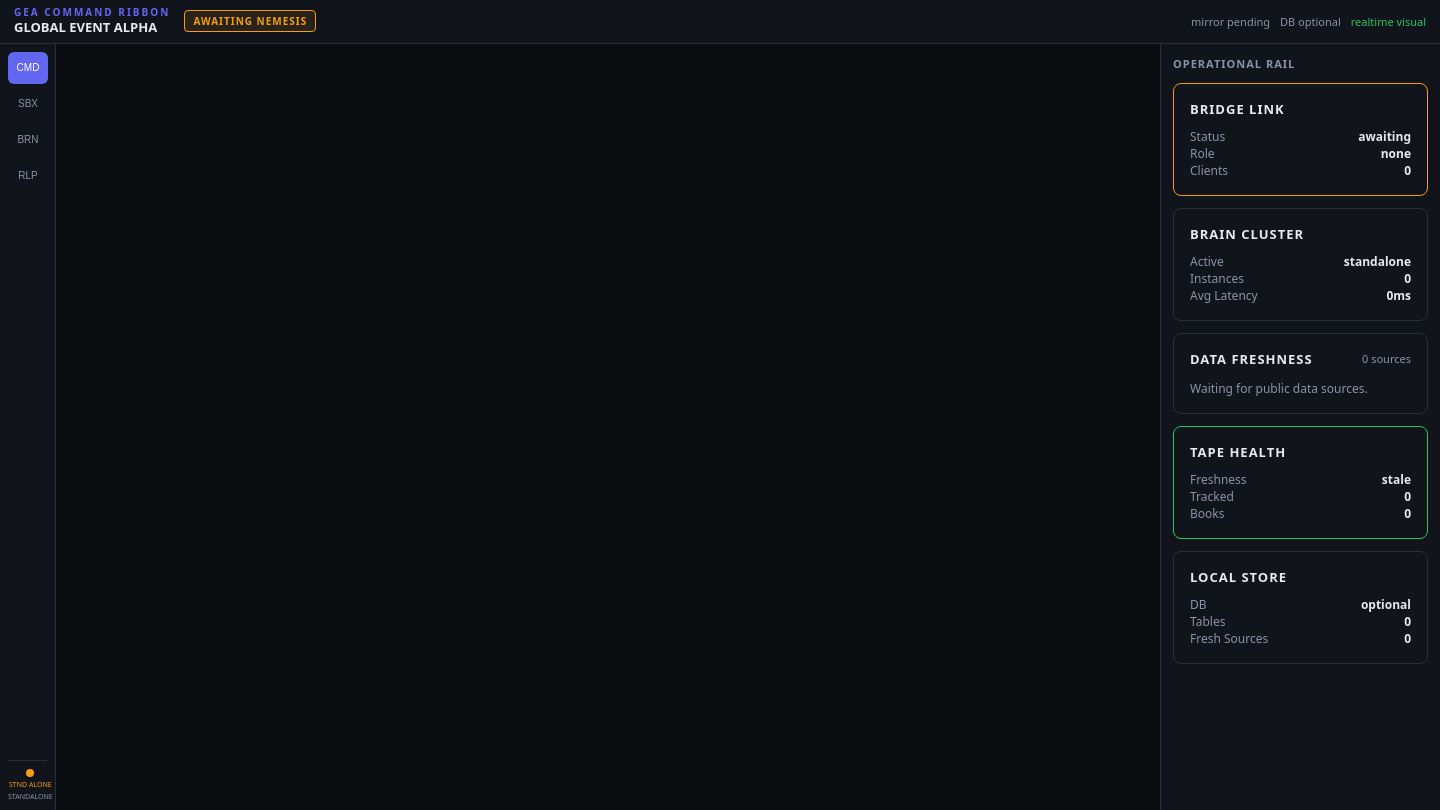
Test: Global Event Alpha shell › renders live brain health rows
Click the button titled "Brain Health" at (28, 140), box x1=8 y1=124 x2=48 y2=156
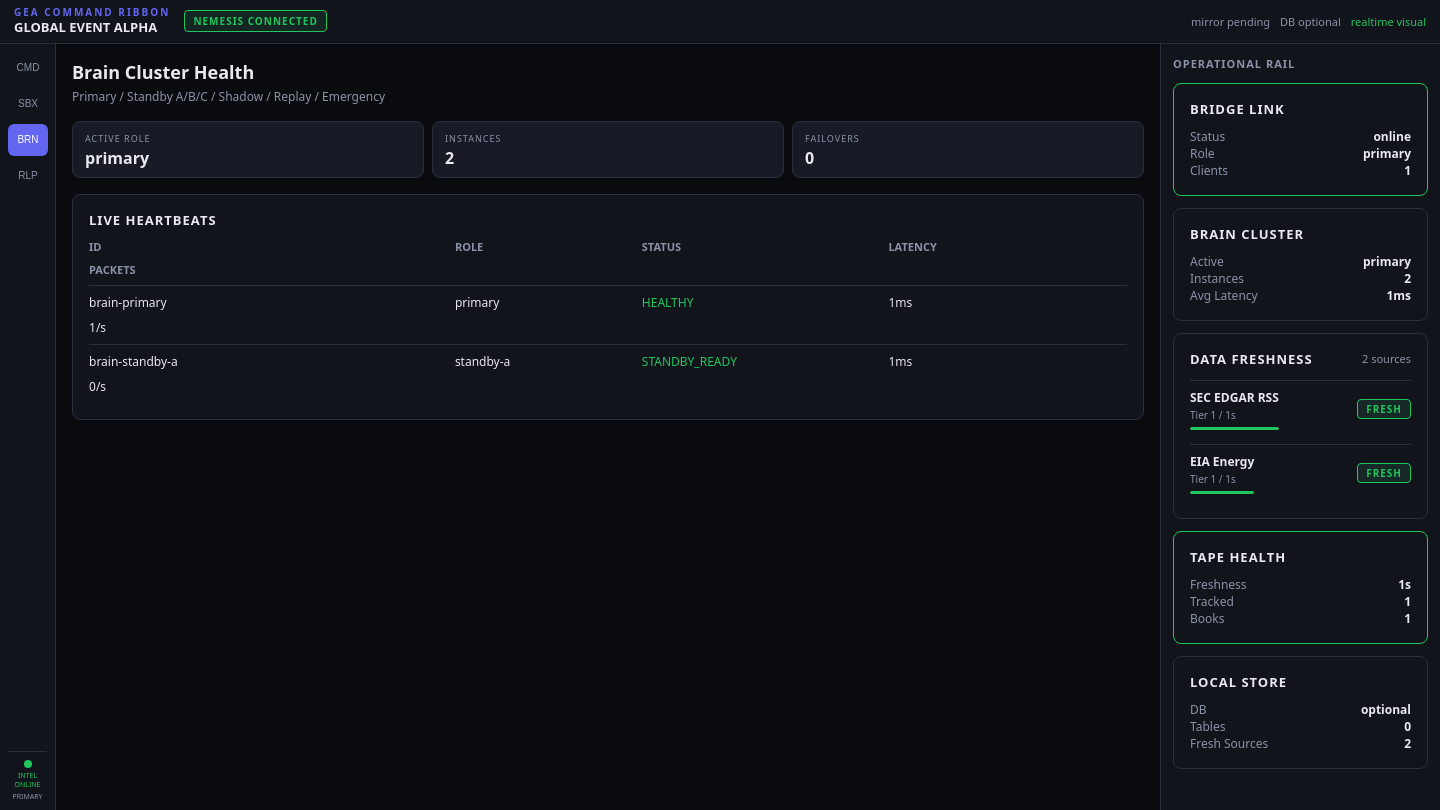
Now the text "brain-primary" is shown, box x1=89 y1=294 x2=167 y2=311
Now the text "HEALTHY" is shown, box x1=642 y1=294 x2=693 y2=311
Now the text "STANDBY_READY" is shown, box x1=642 y1=353 x2=737 y2=370
